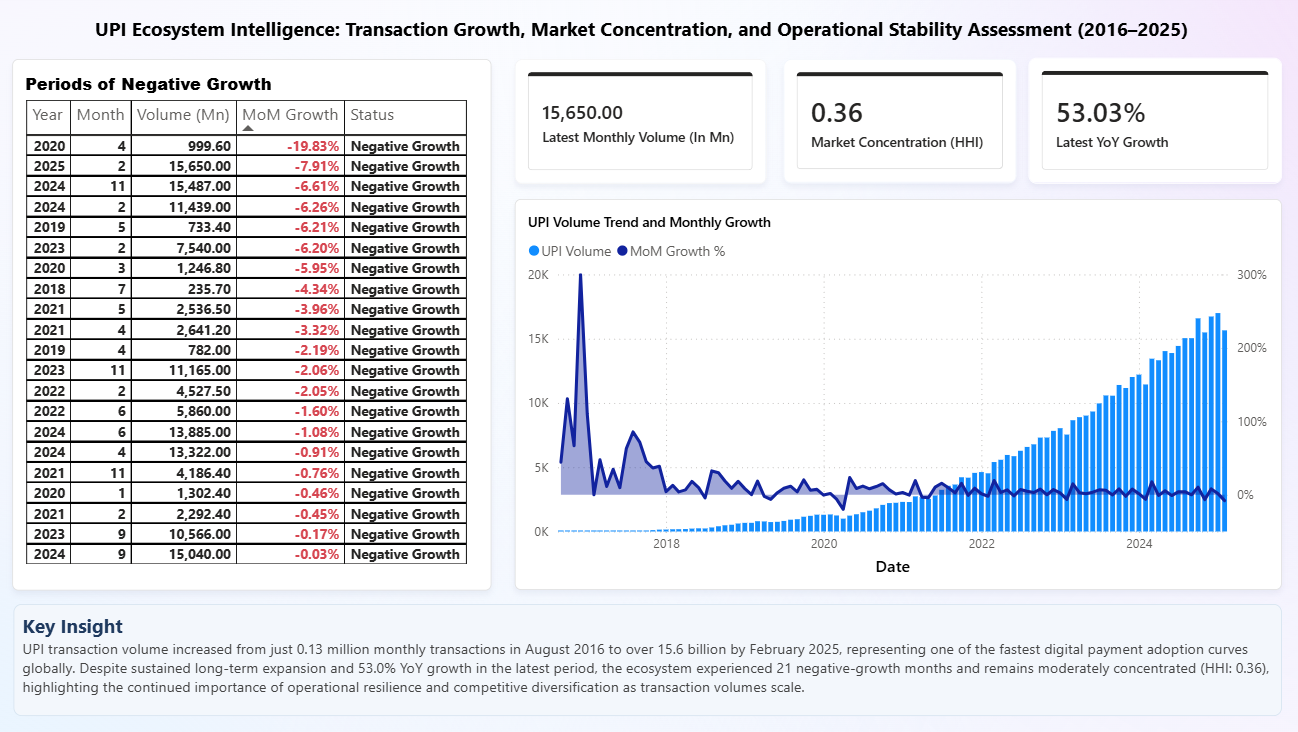

The page's visual inventory and layout, read from the dashboard file:
{"tool":"powerbi","page":{"name":"Executive Overview","canvas":[1280,720],"ordinal":0},"visuals":[{"type":"cardVisual","title":"Latest Monthly Volume (Millions)","fields":{"Data":["Sum(Monthly Growth.volume_millions)"]},"box":[507.5,58.8,246.2,122.5],"z":0},{"type":"cardVisual","fields":{"Data":["Quarterly Growth.YoY_Fixed"]},"box":[1010,57.4,248.3,123.3],"z":1000},{"type":"tableEx","title":"Periods of Negative Growth","fields":{"Values":["Monthly Growth.year","Monthly Growth.month","Sum(Monthly Growth.volume_millions)","Monthly Growth.Avg MoM Growth %","Monthly Growth.anomaly_flag"]},"box":[16.2,58.8,468.8,520],"z":2000},{"type":"lineClusteredColumnComboChart","title":"UPI Volume Trend and Monthly Growth","fields":{"Category":["Monthly Growth.Date"],"Y":["Sum(Monthly Growth.volume_millions)"],"Y2":["Monthly Growth.Avg MoM Growth %"]},"box":[508,196,750,382],"z":3000},{"type":"textbox","box":[84.4,11,1094.4,35.5],"z":4000},{"type":"cardVisual","fields":{"Data":["App Market Share.Herfindahl"]},"box":[770,59.1,228.3,121.7],"z":5000},{"type":"textbox","box":[16.9,591.5,1240.8,109.9],"z":6000}]}

Visuals, with their boxes in screenshot pixels (x1, y1, x2, y2), scaled from the page's 1280x720 canvas onto the 1298x732 screenshot:
"Latest Monthly Volume (Millions)" cardVisual: (515,60,764,184)
cardVisual - Quarterly Growth.YoY_Fixed: (1024,58,1276,184)
"Periods of Negative Growth" tableEx: (16,60,492,588)
"UPI Volume Trend and Monthly Growth" lineClusteredColumnComboChart: (515,199,1276,588)
textbox: (86,11,1195,47)
cardVisual - App Market Share.Herfindahl: (781,60,1012,184)
textbox: (17,601,1275,713)
